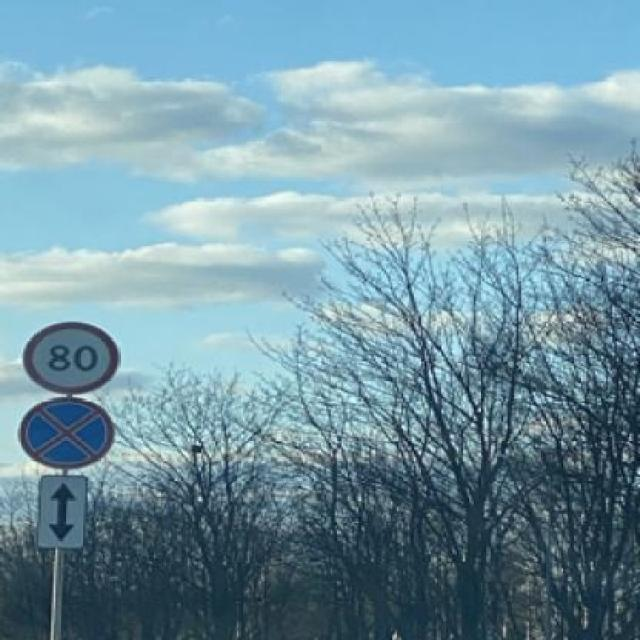forb_speed_over_80: (25, 320, 124, 394)
